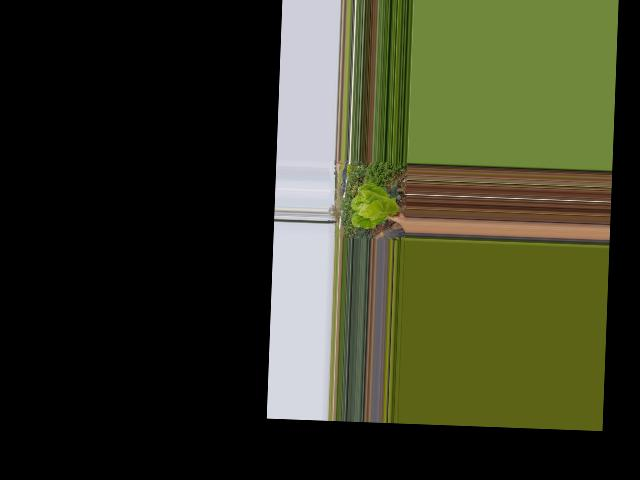lettuce: (350, 181, 403, 232)
